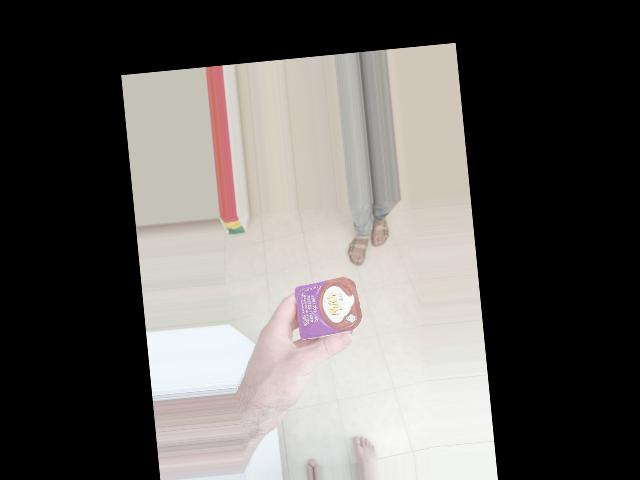milky: (288, 265, 354, 345)
